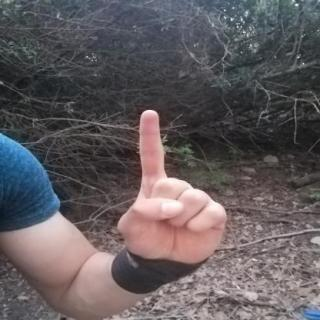BAA: (106, 97, 242, 275)
